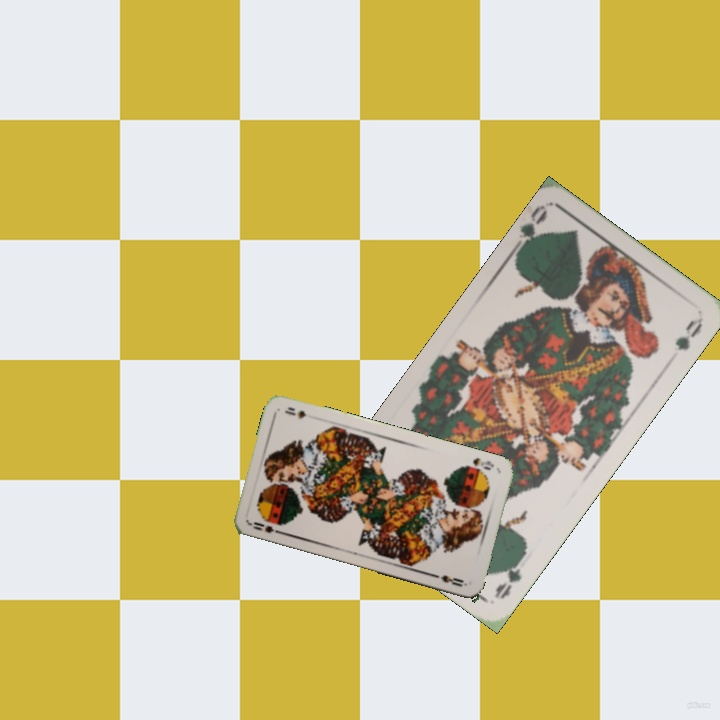GO: (507, 201, 550, 257), (490, 549, 528, 602)
SO: (459, 453, 497, 474), (246, 518, 286, 537)
